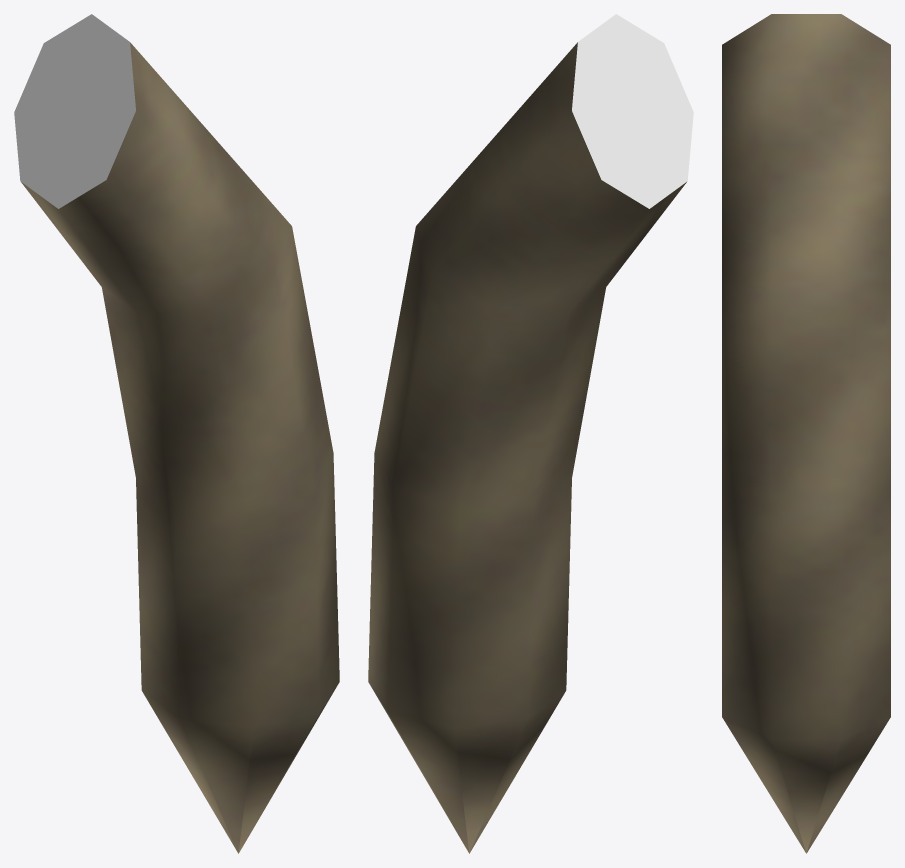
The model's file is Docks_Railing_Rope_Broken_2_1x1.glb.
The picture shows the model from 3 angles, left to right: view 1: azimuth 30°, elevation 25°; view 2: azimuth 150°, elevation 25°; view 3: azimuth 270°, elevation 25°; orthographic projection. The views are drawn at different scales.
Visible parts, largest first — view 1: Docks_Railing_Rope_Broken_2_1x1; view 2: Docks_Railing_Rope_Broken_2_1x1; view 3: Docks_Railing_Rope_Broken_2_1x1.
Part boxes in pixels (left/top/right/bottom): Docks_Railing_Rope_Broken_2_1x1: left=14, top=14, right=339, bottom=853; Docks_Railing_Rope_Broken_2_1x1: left=368, top=14, right=693, bottom=853; Docks_Railing_Rope_Broken_2_1x1: left=722, top=14, right=890, bottom=853.
Size of what is drawn, in the model's own units: 10.99 by 32.01 by 6.25.
2 materials, 1 textured.
